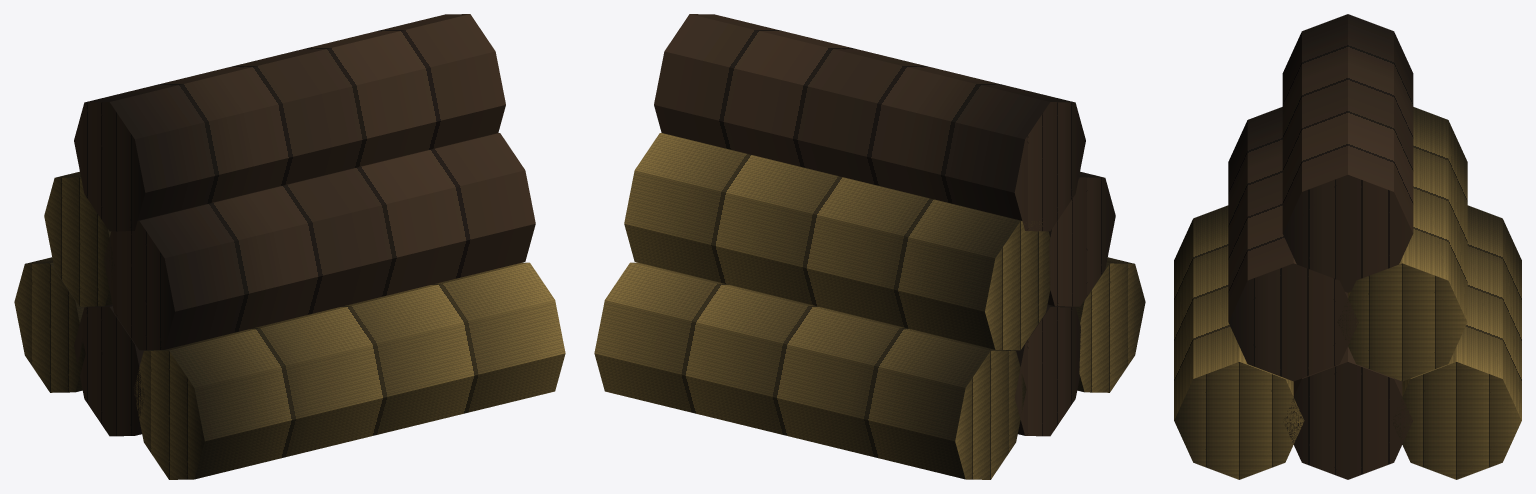
Rendered from wood_pile.gltf.
3 renders of one model, left to right at view 1: azimuth 30°, elevation 25°; view 2: azimuth 150°, elevation 25°; view 3: azimuth 270°, elevation 25°, orthographic. The views are drawn at different scales.
Visible parts, largest first — view 1: wood_pile; view 2: wood_pile; view 3: wood_pile.
Part boxes in pixels (x1,y1,x2,y2): wood_pile: (14,14,565,479); wood_pile: (594,14,1145,479); wood_pile: (1174,14,1521,479).
Bounding box in the file's own units: 0.7 × 0.62 × 0.64.
1 material, 1 textured.
